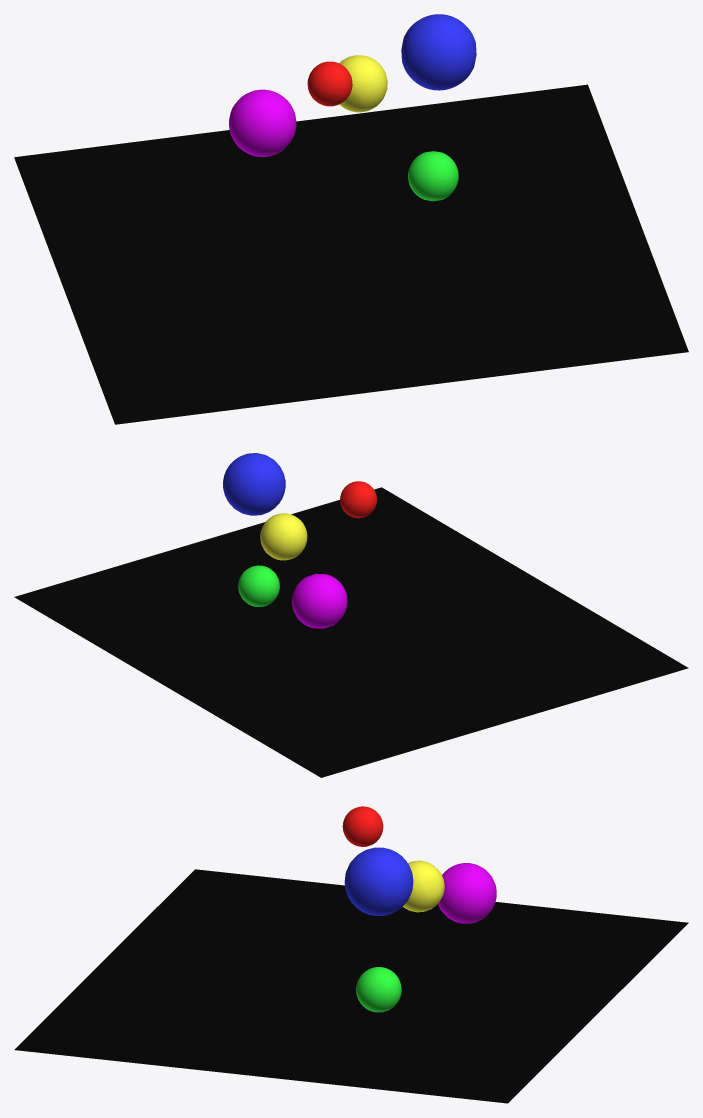
Rendered from Grosse_kugel_volume.glb.
3 views of the same model, one above another, from view 1: azimuth 30°, elevation 25°; view 2: azimuth 150°, elevation 25°; view 3: azimuth 270°, elevation 25° (orthographic). The views are drawn at different scales.
Parts seen in each view (by area): view 1: p.0050, p.0034, p.0032, p.0036, p.0035, p.0029; view 2: p.0050, p.0034, p.0032, p.0035, p.0036, p.0029; view 3: p.0050, p.0034, p.0032, p.0036, p.0035, p.0029.
Part boxes in pixels (x1,y1,x2,y2): p.0050: (14,84,688,424); p.0034: (401,14,476,90); p.0032: (229,89,296,156); p.0036: (408,151,458,201); p.0035: (339,55,387,112); p.0029: (307,61,352,106); p.0050: (14,487,688,777); p.0034: (223,453,285,515); p.0032: (292,573,347,628); p.0035: (260,513,307,560); p.0036: (238,565,279,606); p.0029: (340,481,376,518); p.0050: (14,869,688,1103); p.0034: (344,847,413,915); p.0032: (438,863,496,923); p.0036: (356,967,401,1012); p.0035: (403,860,444,912); p.0029: (342,806,383,846).
Size of the model in its own units: 27.65 by 9.34 by 27.73.
